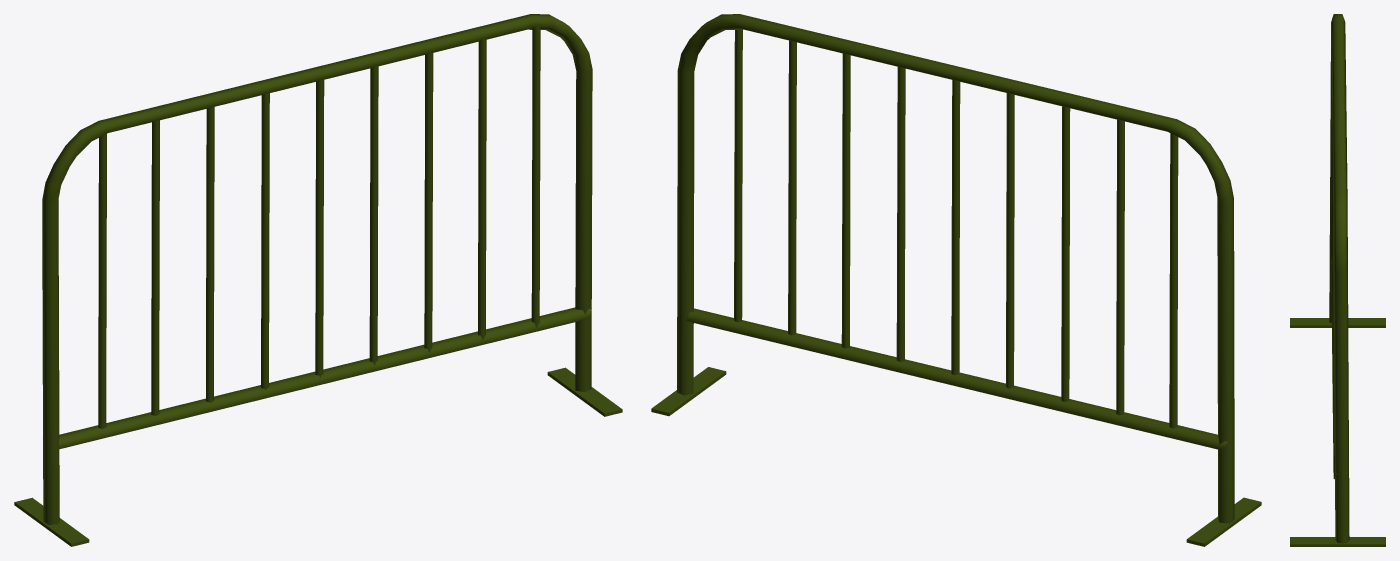
Rendered from Barrier01_M.fbx.
The picture shows the model from 3 angles, left to right: view 1: azimuth 30°, elevation 25°; view 2: azimuth 150°, elevation 25°; view 3: azimuth 270°, elevation 25°; orthographic projection. The views are drawn at different scales.
Visible parts, largest first — view 1: Barrier01; view 2: Barrier01; view 3: Barrier01.
Part boxes in pixels (bbox=[...]): Barrier01: bbox=[14, 14, 622, 546]; Barrier01: bbox=[651, 14, 1261, 546]; Barrier01: bbox=[1290, 14, 1385, 546].
Bounding box in the file's own units: 0.8215 × 0.5542 × 0.1469.
